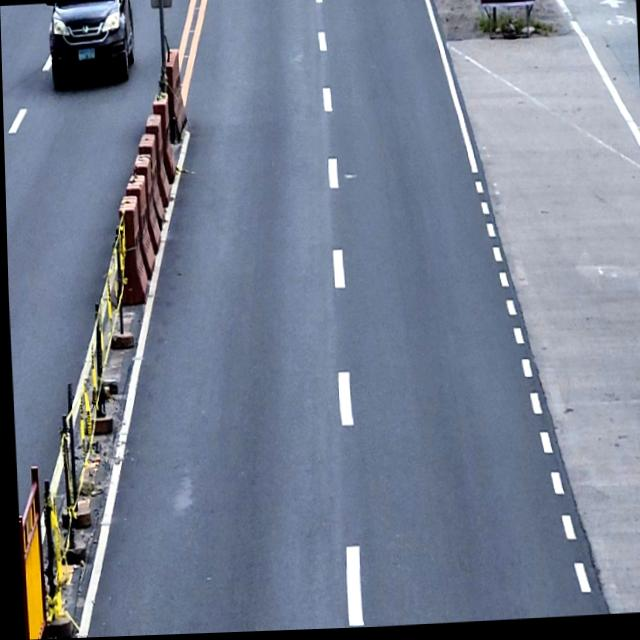Car: (44, 0, 135, 90)
License-Plate: (77, 46, 95, 62)
